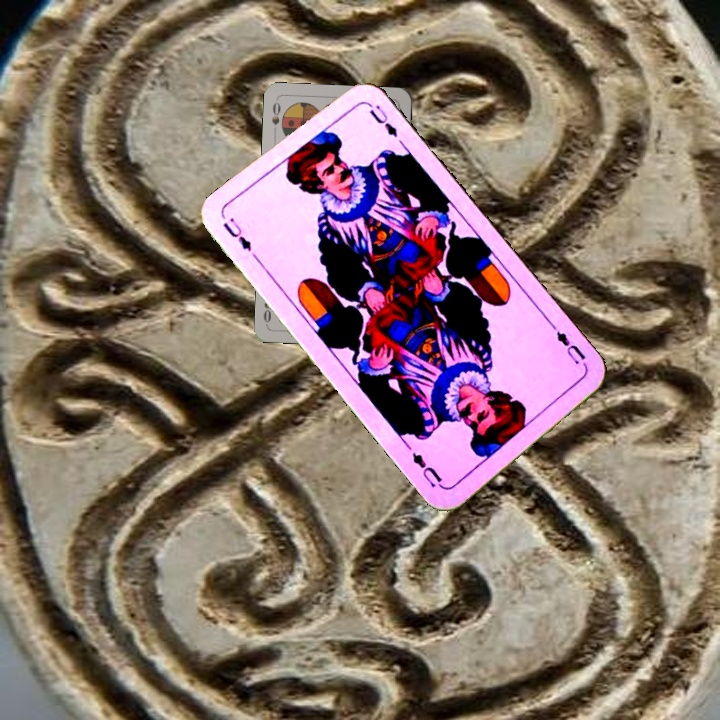EU: (552, 327, 590, 371), (219, 213, 254, 254)
SO: (268, 98, 283, 138)
